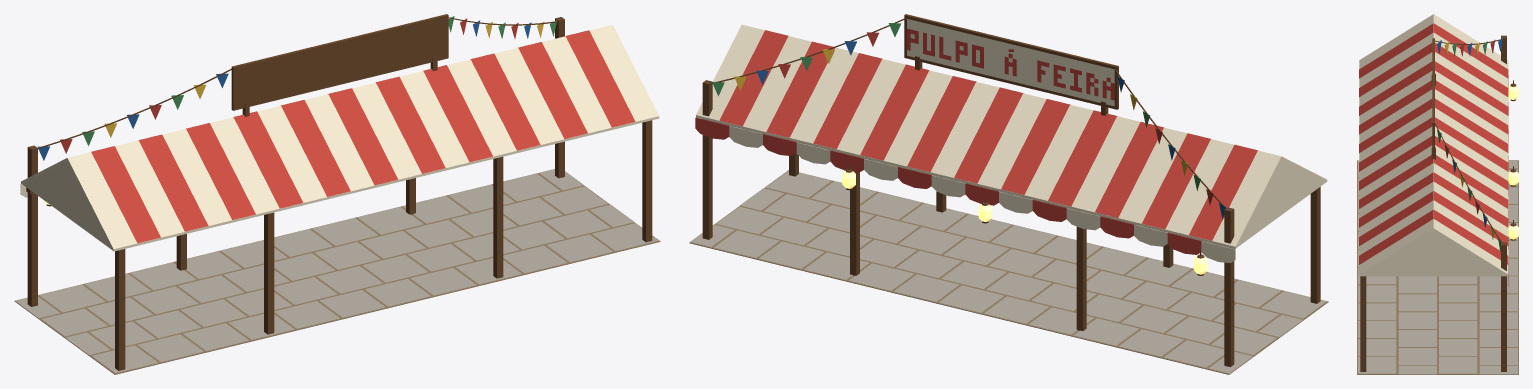
The model's file is tent.glb.
3 views of the same model, side by side, from view 1: azimuth 30°, elevation 25°; view 2: azimuth 150°, elevation 25°; view 3: azimuth 270°, elevation 25° (orthographic). The views are drawn at different scales.
Visible parts, largest first — view 1: tent_roof, tent_floor, tent_sign, tent_frame, tent_bunting; view 2: tent_roof, tent_floor, tent_sign, tent_valance, tent_frame, tent_bunting, tent_lanterns; view 3: tent_roof, tent_floor, tent_frame, tent_bunting, tent_lanterns, tent_sign, tent_valance.
Boxes of the visible parts, x1=… form: tent_roof: x1=21, y1=24, x2=659, y2=251; tent_floor: x1=14, y1=169, x2=660, y2=374; tent_sign: x1=231, y1=14, x2=448, y2=110; tent_frame: x1=26, y1=17, x2=652, y2=370; tent_bunting: x1=37, y1=16, x2=557, y2=160; tent_roof: x1=696, y1=24, x2=1327, y2=248; tent_floor: x1=689, y1=170, x2=1328, y2=374; tent_sign: x1=904, y1=14, x2=1118, y2=109; tent_valance: x1=695, y1=117, x2=1235, y2=262; tent_frame: x1=702, y1=56, x2=1320, y2=366; tent_bunting: x1=711, y1=18, x2=1226, y2=219; tent_lanterns: x1=842, y1=165, x2=1207, y2=275; tent_roof: x1=1359, y1=14, x2=1508, y2=276; tent_floor: x1=1357, y1=160, x2=1518, y2=374; tent_frame: x1=1360, y1=35, x2=1506, y2=371; tent_bunting: x1=1435, y1=38, x2=1502, y2=251; tent_lanterns: x1=1508, y1=80, x2=1518, y2=240; tent_sign: x1=1432, y1=38, x2=1434, y2=157; tent_valance: x1=1508, y1=62, x2=1508, y2=286.
Size of the model in its own units: 11.9 by 4.85 by 3.8.
